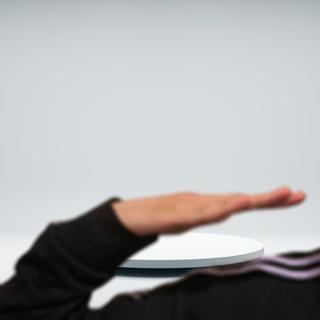Wait: (114, 184, 309, 246)
